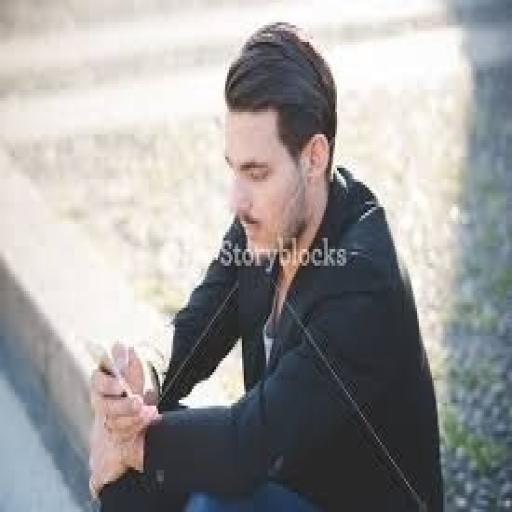texting: (84, 20, 445, 509)
